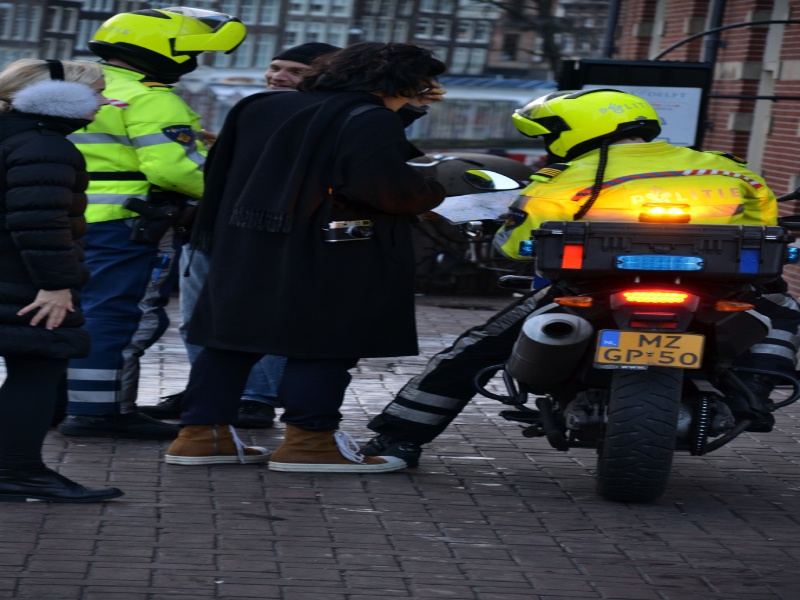Baret: (93, 7, 207, 65), (525, 92, 659, 139)
